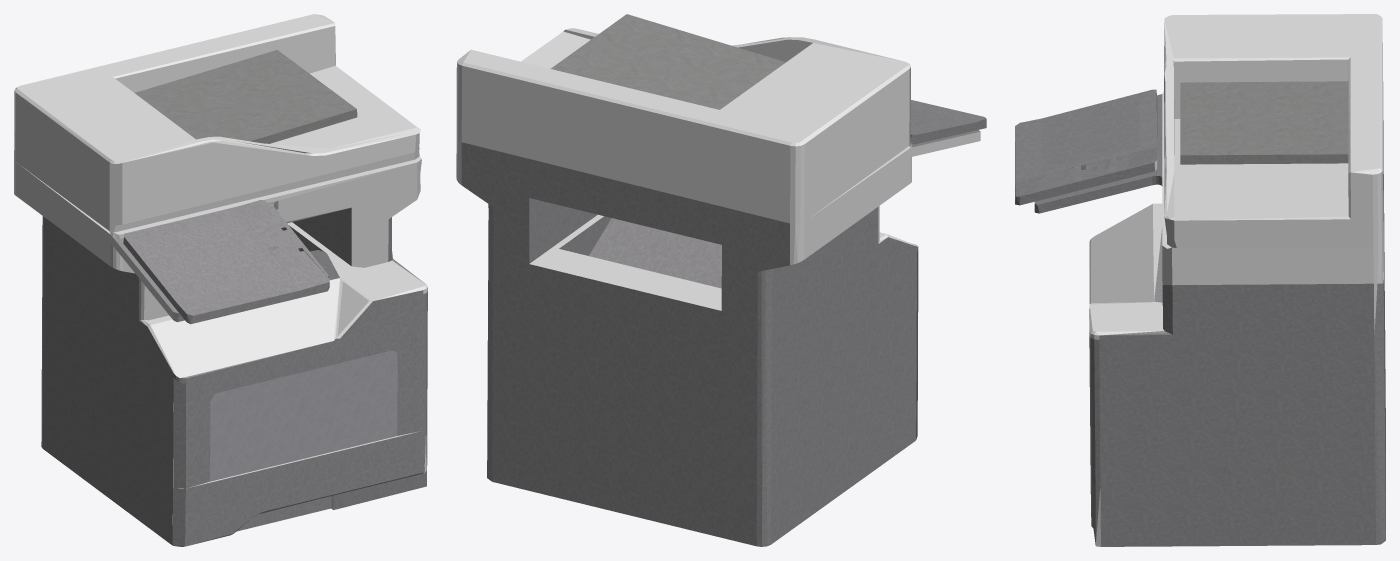
File: impres nova.fbx
3 renders of one model, left to right at view 1: azimuth 30°, elevation 25°; view 2: azimuth 150°, elevation 25°; view 3: azimuth 270°, elevation 25°, orthographic. The views are drawn at different scales.
Visible parts, largest first — view 1: impressora, impressora.002, impressora.004, impressora.001, impressora.003, impressora.005; view 2: impressora.002, impressora, impressora.003, impressora.005, impressora.004; view 3: impressora.002, impressora, impressora.003, impressora.004.
Part boxes in pixels (x1,y1,x2,y2): impressora: [14, 14, 427, 524]; impressora.002: [41, 207, 427, 546]; impressora.004: [111, 200, 329, 324]; impressora.001: [210, 350, 397, 481]; impressora.003: [135, 50, 357, 143]; impressora.005: [289, 225, 339, 279]; impressora.002: [461, 142, 918, 546]; impressora: [456, 28, 980, 418]; impressora.003: [550, 14, 785, 109]; impressora.005: [559, 216, 721, 288]; impressora.004: [910, 100, 986, 147]; impressora.002: [1089, 120, 1385, 546]; impressora: [1089, 14, 1383, 546]; impressora.003: [1180, 81, 1348, 164]; impressora.004: [1015, 89, 1162, 213].
Bounding box in the file's own units: 8.74 × 9.92 × 8.56.
4 materials, 3 textured.
